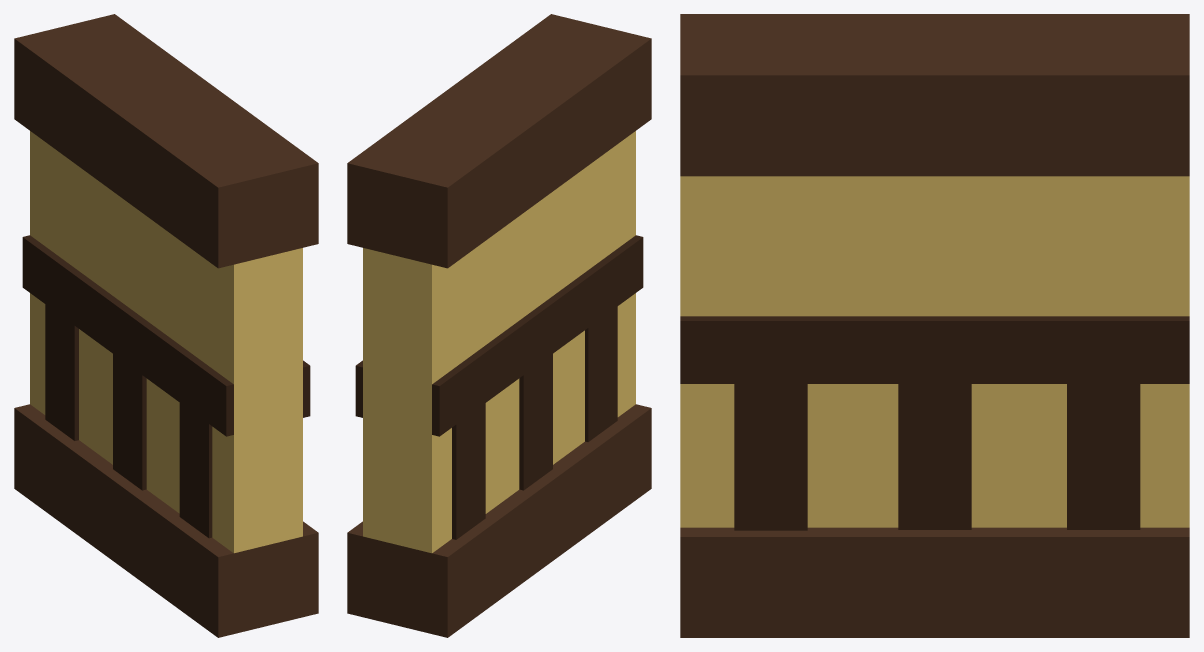
The model's file is Wall_Planks_1x3.fbx.
3 views of the same model, side by side, from view 1: azimuth 30°, elevation 25°; view 2: azimuth 150°, elevation 25°; view 3: azimuth 270°, elevation 25° (orthographic). The views are drawn at different scales.
Parts seen in each view (by area): view 1: Wall Planks 1x3; view 2: Wall Planks 1x3; view 3: Wall Planks 1x3.
Part boxes in pixels (x1,y1,x2,y2): Wall Planks 1x3: (14,14,318,637); Wall Planks 1x3: (347,14,651,637); Wall Planks 1x3: (680,14,1189,637).
Size of the model in its own units: 56.9 by 244 by 200.
